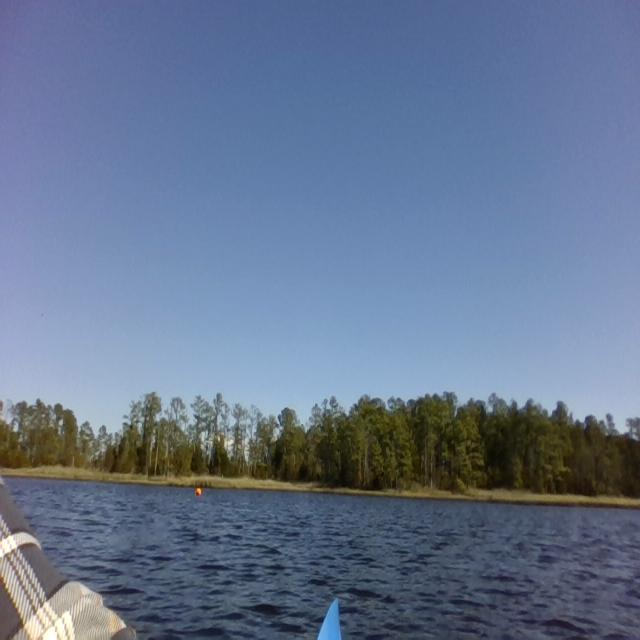Buoy: (192, 484, 204, 502)
